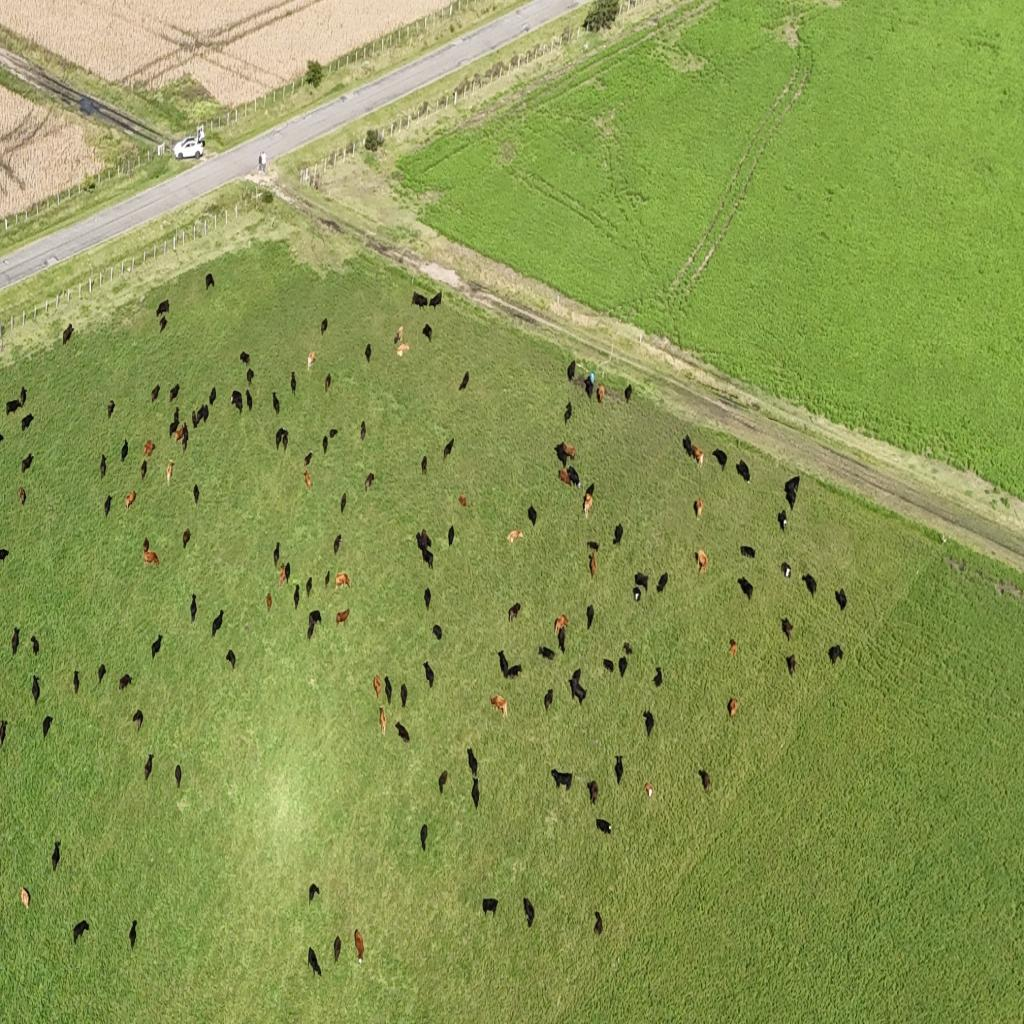cow: (415, 529, 434, 571), (568, 670, 587, 706), (783, 474, 799, 510), (72, 918, 90, 945), (551, 768, 573, 790), (490, 694, 508, 720), (192, 403, 209, 430), (308, 946, 322, 978), (307, 610, 321, 641), (738, 576, 754, 602), (554, 613, 570, 639), (143, 542, 159, 568), (354, 928, 365, 964), (523, 896, 535, 928), (467, 746, 479, 778), (802, 573, 817, 597), (212, 608, 224, 638), (633, 572, 649, 594), (712, 448, 727, 471), (334, 572, 352, 591), (559, 442, 576, 462), (51, 839, 61, 873), (781, 616, 794, 642), (736, 460, 750, 484), (482, 897, 498, 918), (395, 721, 410, 743), (698, 768, 711, 793), (691, 444, 704, 469), (470, 778, 480, 810), (128, 918, 138, 950), (276, 427, 288, 453), (696, 548, 708, 574), (643, 709, 654, 737), (828, 645, 843, 665), (614, 755, 624, 785), (10, 627, 20, 657), (424, 660, 434, 690), (31, 675, 41, 705), (583, 490, 593, 520), (587, 779, 598, 806), (835, 588, 847, 612), (596, 817, 612, 835), (412, 291, 428, 309), (6, 399, 22, 417), (682, 434, 694, 458), (948, 557, 966, 573), (567, 466, 580, 488), (508, 602, 521, 624), (152, 632, 162, 660), (336, 607, 350, 627), (144, 752, 153, 783), (62, 323, 74, 346), (231, 390, 242, 415), (507, 528, 524, 544), (538, 645, 556, 660), (156, 299, 170, 318), (656, 572, 668, 594), (132, 709, 143, 733), (20, 886, 31, 910), (119, 673, 132, 693), (43, 715, 53, 741), (582, 482, 595, 502), (443, 438, 455, 459), (142, 440, 156, 458), (125, 491, 137, 512), (785, 654, 796, 676), (309, 882, 320, 904), (21, 454, 33, 474), (618, 655, 628, 679), (438, 770, 448, 794), (584, 376, 594, 400), (498, 650, 508, 674), (421, 529, 433, 549), (379, 706, 387, 736), (429, 291, 442, 309), (21, 413, 34, 431), (557, 628, 566, 654), (420, 823, 428, 852), (384, 676, 392, 705), (333, 934, 341, 963), (364, 472, 375, 493), (613, 523, 623, 546), (728, 697, 738, 720), (594, 910, 603, 935), (740, 545, 756, 559), (400, 682, 408, 710), (0, 720, 8, 748), (396, 342, 410, 358), (166, 460, 174, 488), (778, 510, 788, 532), (653, 666, 663, 688), (226, 648, 236, 670), (394, 324, 404, 346), (373, 674, 381, 701), (508, 664, 522, 679), (190, 593, 197, 623), (181, 422, 188, 452), (168, 419, 178, 440), (169, 384, 180, 403), (589, 552, 597, 578), (544, 688, 553, 711), (333, 533, 342, 556), (459, 371, 469, 391), (564, 400, 572, 425), (586, 605, 594, 630), (104, 494, 112, 519), (728, 639, 738, 659), (150, 384, 160, 404), (781, 562, 792, 580), (602, 658, 614, 674), (272, 392, 280, 416), (174, 764, 182, 788), (422, 323, 432, 342), (644, 782, 654, 801), (31, 635, 40, 656), (528, 505, 536, 528), (424, 587, 432, 610), (73, 669, 80, 695), (100, 454, 107, 480), (432, 624, 442, 642), (158, 315, 168, 333), (596, 384, 605, 404), (567, 360, 575, 382), (695, 497, 703, 519), (304, 470, 312, 492), (293, 584, 300, 609), (364, 342, 372, 363), (273, 542, 280, 566), (183, 529, 191, 550), (121, 439, 128, 463), (98, 664, 106, 685), (20, 386, 28, 407), (624, 384, 632, 404), (0, 548, 10, 564), (303, 452, 313, 468), (632, 586, 642, 602), (107, 399, 115, 419), (307, 350, 315, 370), (240, 351, 250, 366), (322, 434, 329, 455), (206, 272, 214, 290), (587, 540, 599, 552), (320, 318, 328, 336), (448, 524, 454, 548), (622, 642, 632, 656), (19, 486, 26, 506), (209, 386, 216, 406), (284, 561, 290, 584), (246, 368, 254, 385), (340, 492, 346, 514), (193, 483, 199, 505), (290, 372, 296, 394), (246, 389, 252, 411), (141, 459, 147, 481), (306, 576, 312, 598), (142, 538, 150, 554), (192, 408, 198, 429), (421, 456, 427, 476), (325, 373, 331, 393), (360, 420, 366, 440), (266, 592, 272, 612), (458, 495, 467, 508), (1000, 584, 1008, 597), (330, 429, 338, 439)
